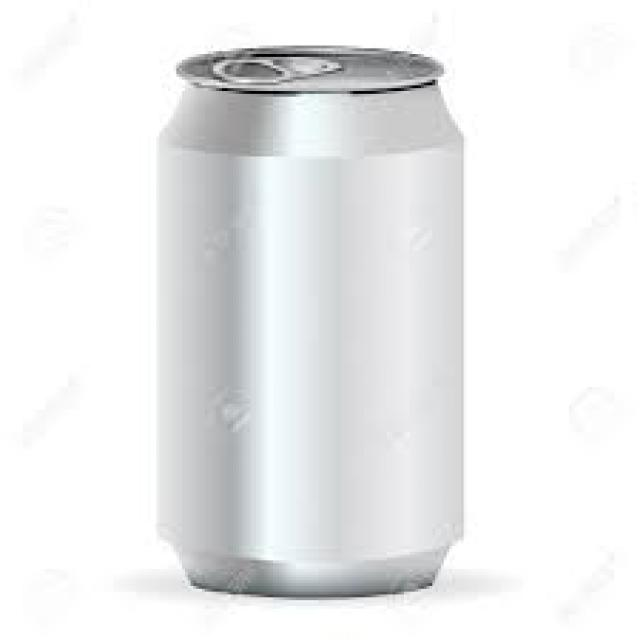metal: (154, 46, 461, 598)
